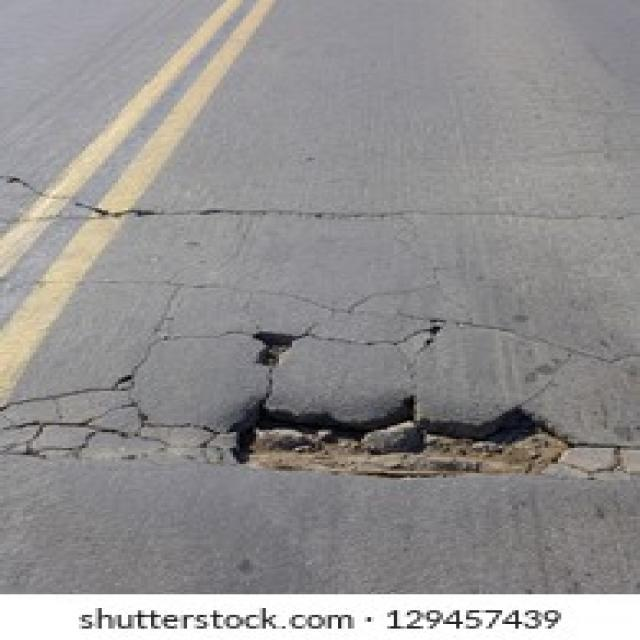Pothole: (226, 402, 581, 478), (242, 325, 306, 368)
